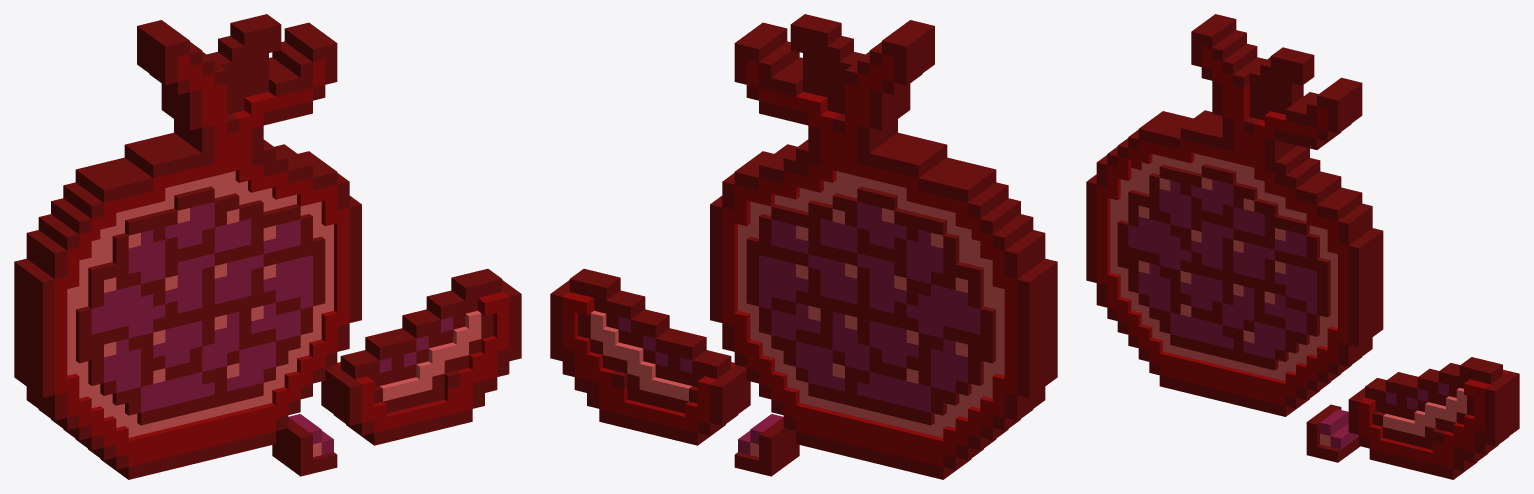
Rendered from Pomegranate.fbx.
The picture shows the model from 3 angles, left to right: view 1: azimuth 30°, elevation 25°; view 2: azimuth 150°, elevation 25°; view 3: azimuth 330°, elevation 25°; orthographic projection. The views are drawn at different scales.
Visible parts, largest first — view 1: shape0 (×45); view 2: shape0 (×45); view 3: shape0 (×12).
Part boxes in pixels (x1,y1,x2,y2): shape0 (×45): (14,20,477,476); shape0 (×45): (594,20,1057,476); shape0 (×12): (1201,16,1519,435).
Bounding box in the file's own units: 390 × 360 × 40.
